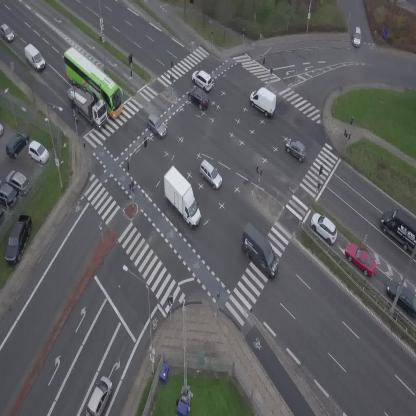bicycle: (127, 178, 137, 196)
bus: (54, 43, 133, 119)
car: (340, 238, 382, 281), (305, 209, 343, 247), (82, 375, 117, 416), (194, 158, 227, 191), (183, 82, 215, 113), (280, 134, 312, 163), (141, 111, 171, 141), (187, 66, 216, 94), (0, 22, 16, 44), (353, 27, 361, 47)
lorry: (151, 165, 213, 230), (230, 221, 289, 281), (60, 77, 116, 132), (244, 83, 282, 119), (20, 42, 49, 72)
